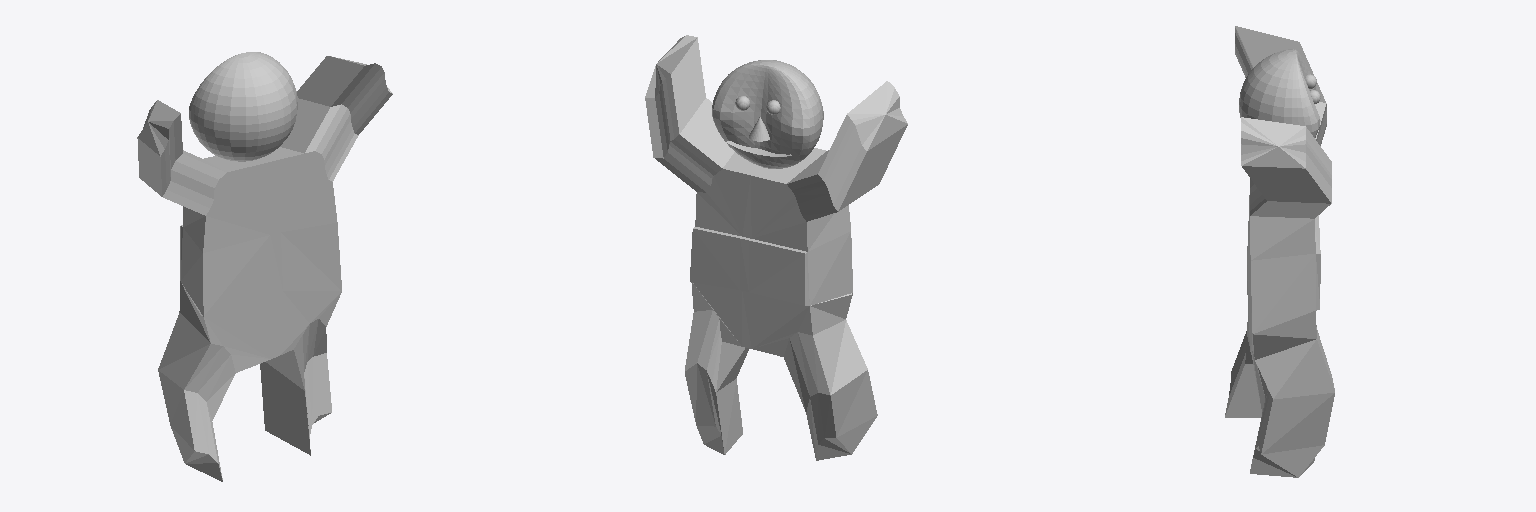
The model's file is man_000004.obj.
The picture shows the model from 3 angles: view 1: azimuth 30°, elevation 25°; view 2: azimuth 150°, elevation 25°; view 3: azimuth 270°, elevation 25°; orthographic projection.
Parts seen in each view (by area): view 1: Cube; view 2: Cube; view 3: Cube.
Part boxes in pixels (x1,y1,x2,y2): Cube: (137, 52, 392, 481); Cube: (645, 35, 907, 460); Cube: (1225, 26, 1334, 477).
Bounding box in the file's own units: 79.08 × 127 × 32.23.